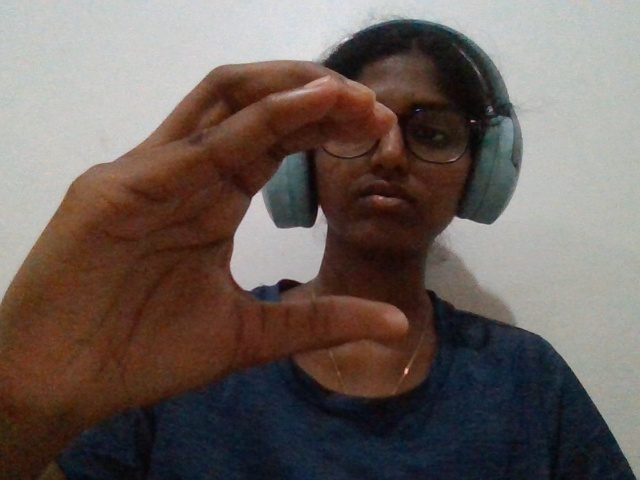C: (4, 25, 416, 461)
